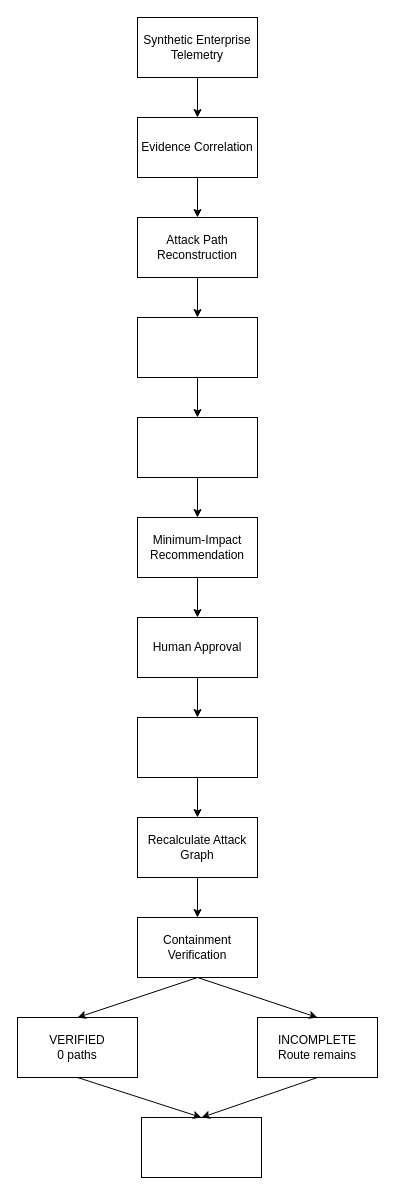
Image size: 395x1195. Some labels were removed from this diagram. Here are the shapes that lost their labels. From the top down, the centre of each, then its label:
point 197,347: Risk + Evidence Assessment
point 197,447: Containment Analysis
point 197,747: Simulated Containment
point 201,1147: Audit Trail
